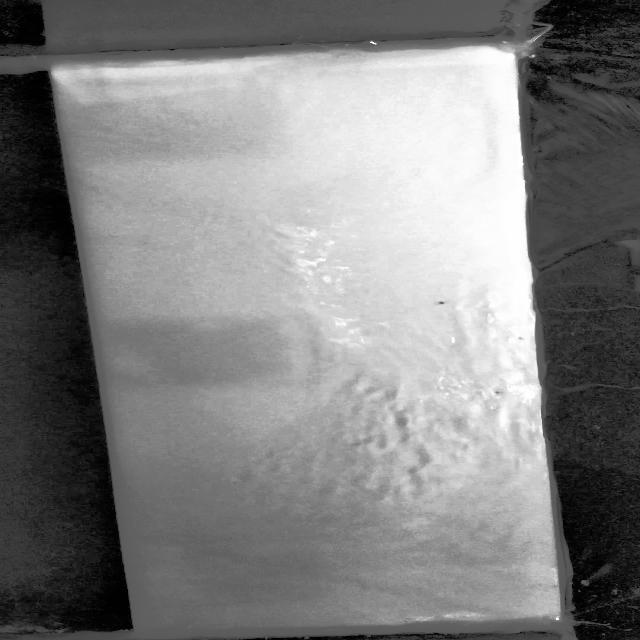shrimp: (423, 296, 456, 309)
